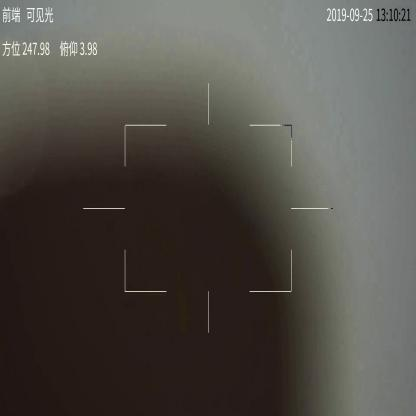uav: (146, 126, 158, 145)
